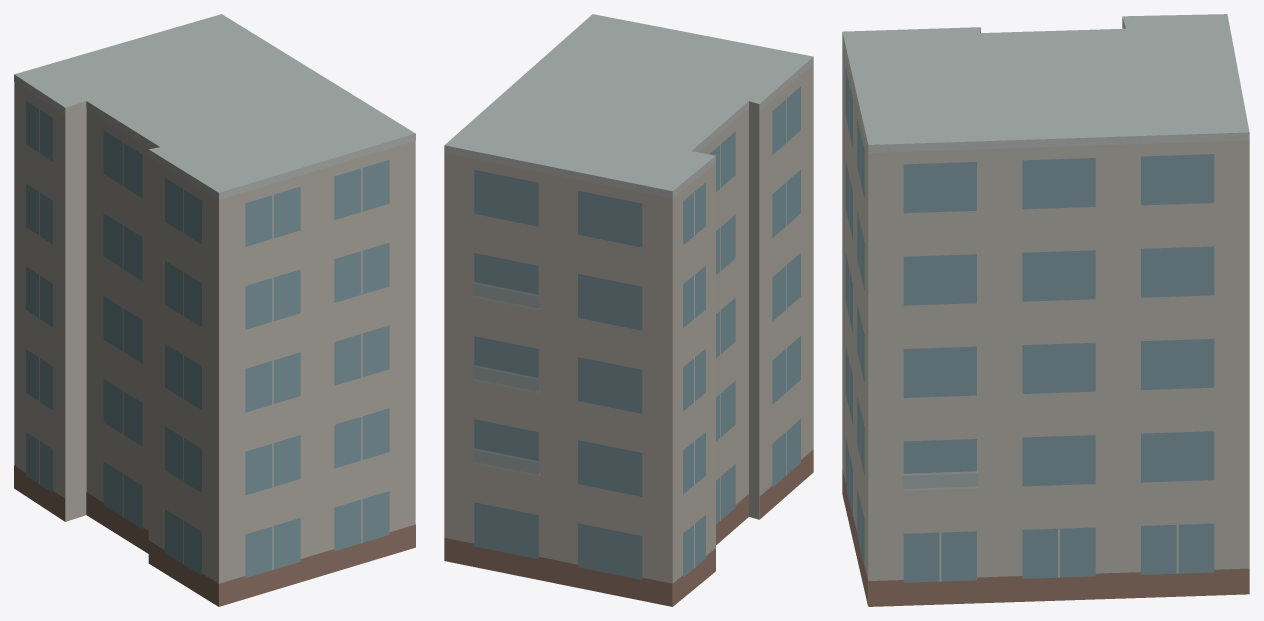
The model's file is survey-upis-32761668.glb.
The picture shows the model from 3 angles, left to right: view 1: azimuth 30°, elevation 25°; view 2: azimuth 150°, elevation 25°; view 3: azimuth 270°, elevation 25°; orthographic projection. The views are drawn at different scales.
Parts seen in each view (by area): view 1: survey-upis-32761668.tmp; view 2: survey-upis-32761668.tmp; view 3: survey-upis-32761668.tmp.
Part boxes in pixels (box(x1,y1,x2,y2)): survey-upis-32761668.tmp: box(14, 14, 415, 606); survey-upis-32761668.tmp: box(444, 14, 813, 606); survey-upis-32761668.tmp: box(842, 14, 1249, 606).
Size of the model in its own units: 8.55 by 14.05 by 11.24.
